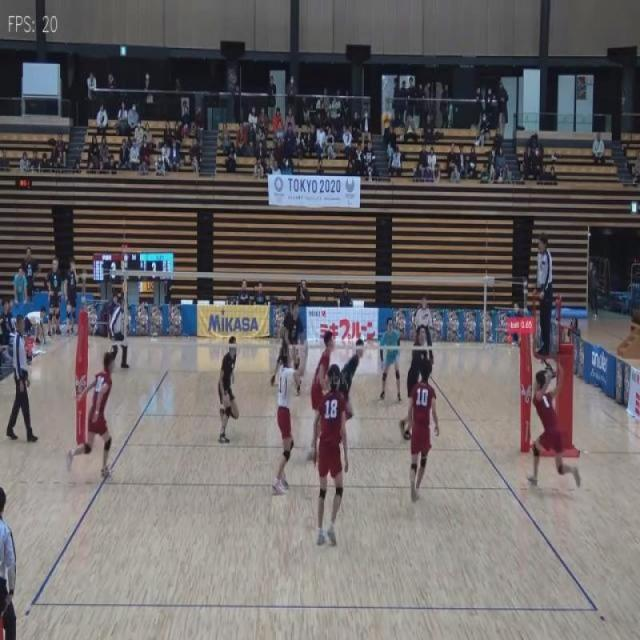volleyball: (381, 112, 392, 128)
